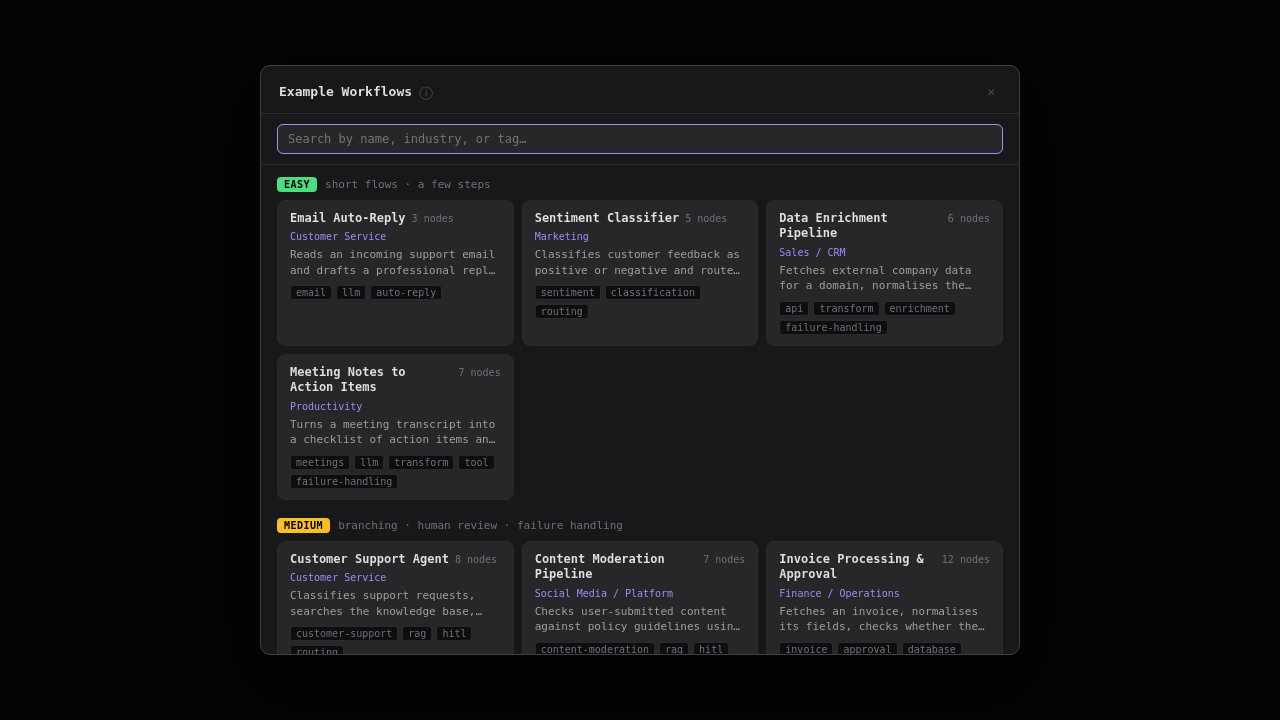
Test: ExamplePickerModal › finds examples by name, industry or tag
In the field with placeholder "Search by name, industry, or tag…": [640, 139] box 277,124 -> 1003,154, type "failure-handling"
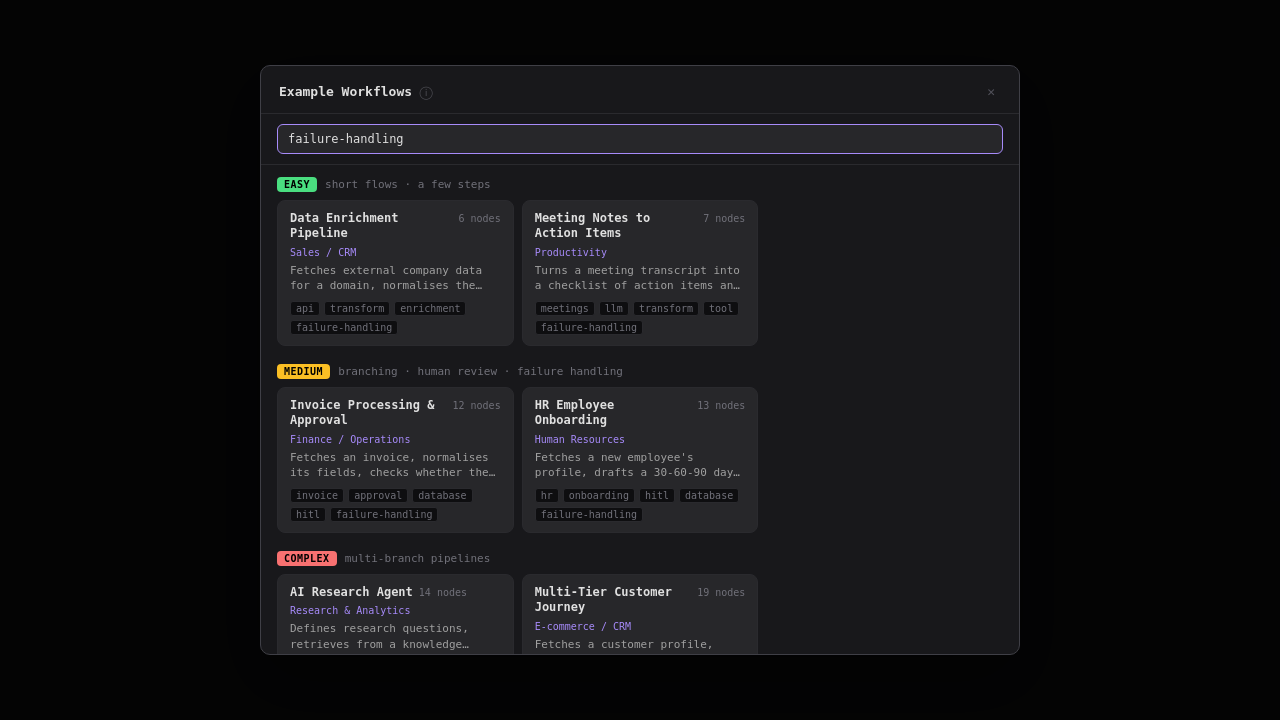
Replace the text in the field with placeholder "Search by name, industry, or tag…" with "refund": [640, 139] box 277,124 -> 1003,154
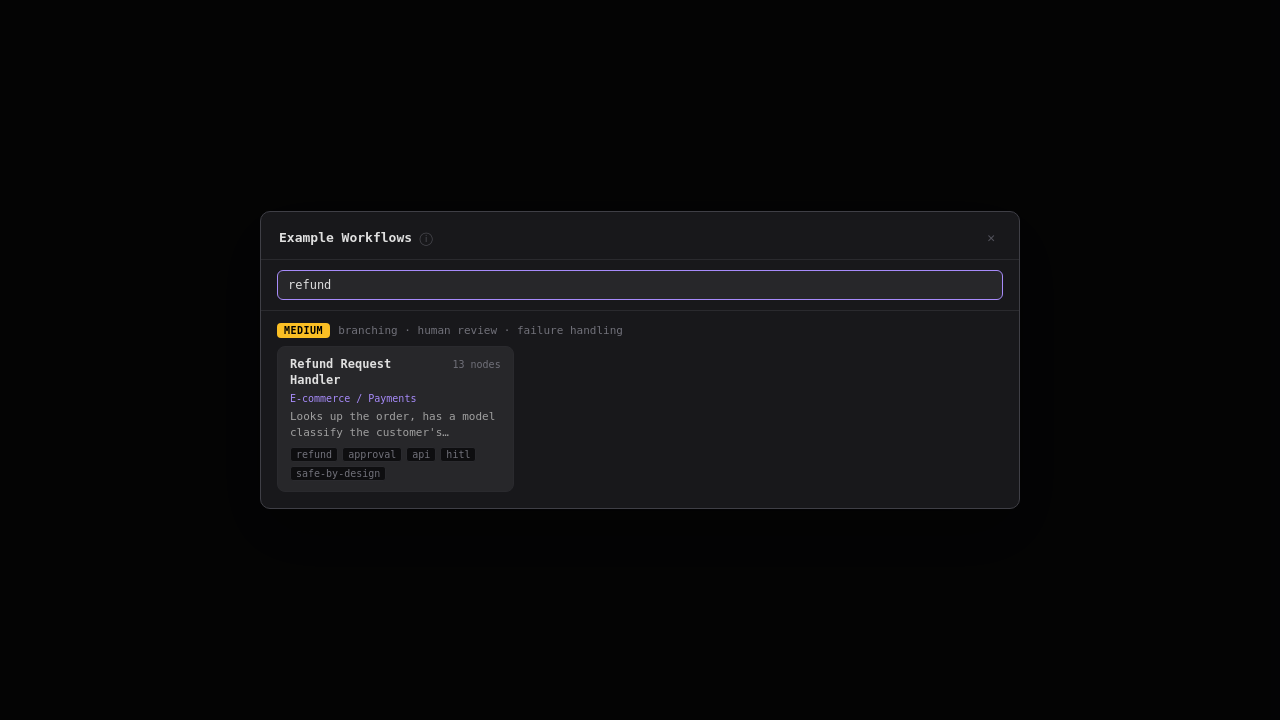
Expected: the button that starts with "Refund Request Handler" is shown, 277,346 -> 514,492
Replace the text in the field with placeholder "Search by name, industry, or tag…" with "try-the-checks": [640, 285] box 277,270 -> 1003,300
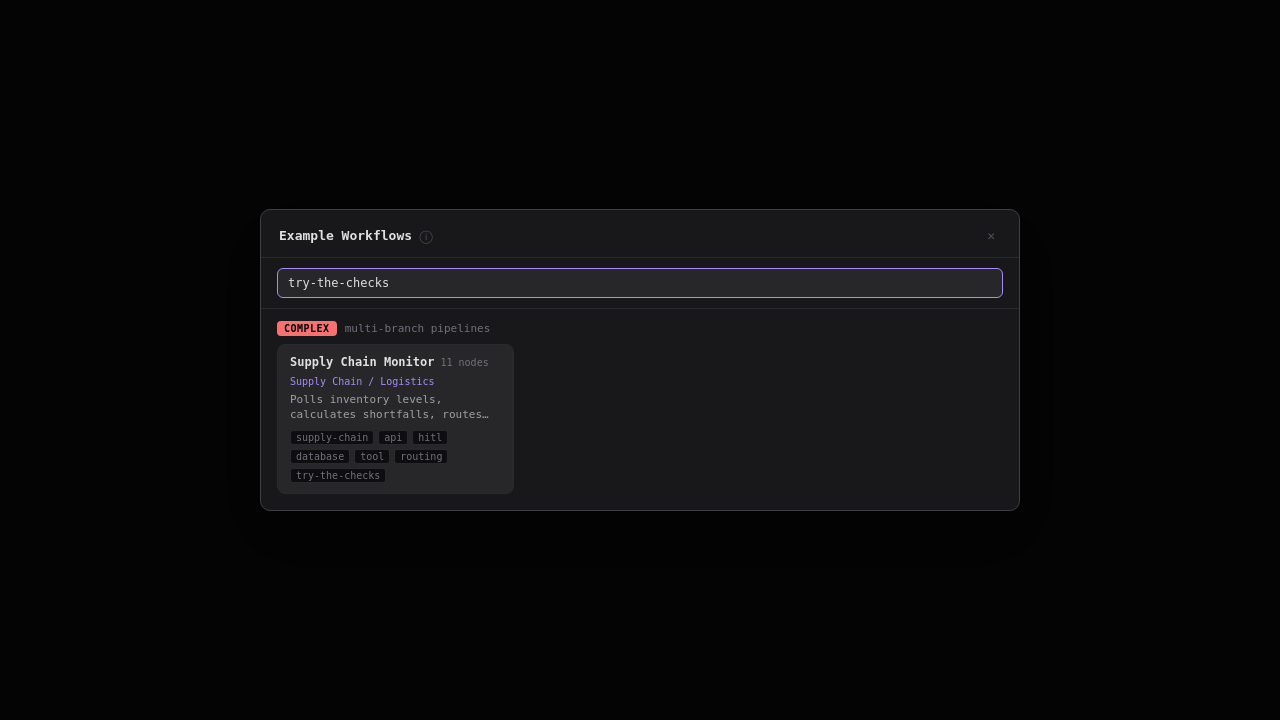
Expected: the button that starts with "Supply Chain Monitor" is shown, 277,344 -> 514,494
